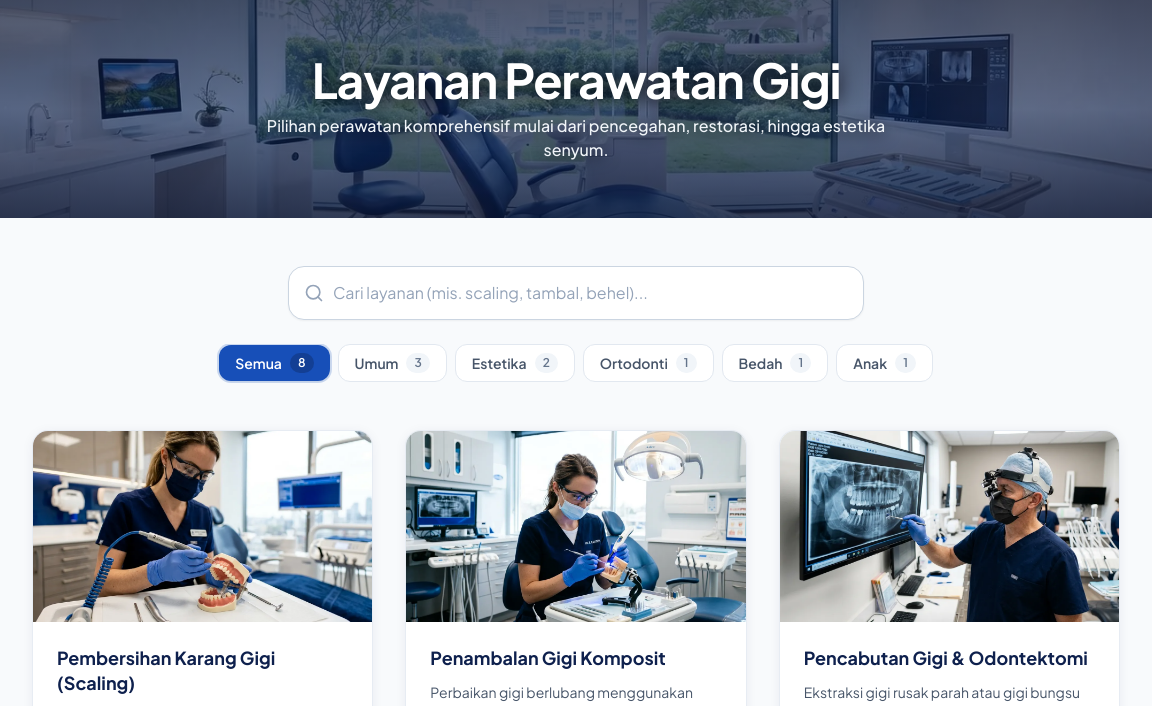
Test: Services.vue (FR-4.1, FR-4.4) › filters services based on category chip
This screenshot has width=1152, height=706.
Click the button "Ortodonti 1" at (648, 363), box [583, 344, 714, 382]
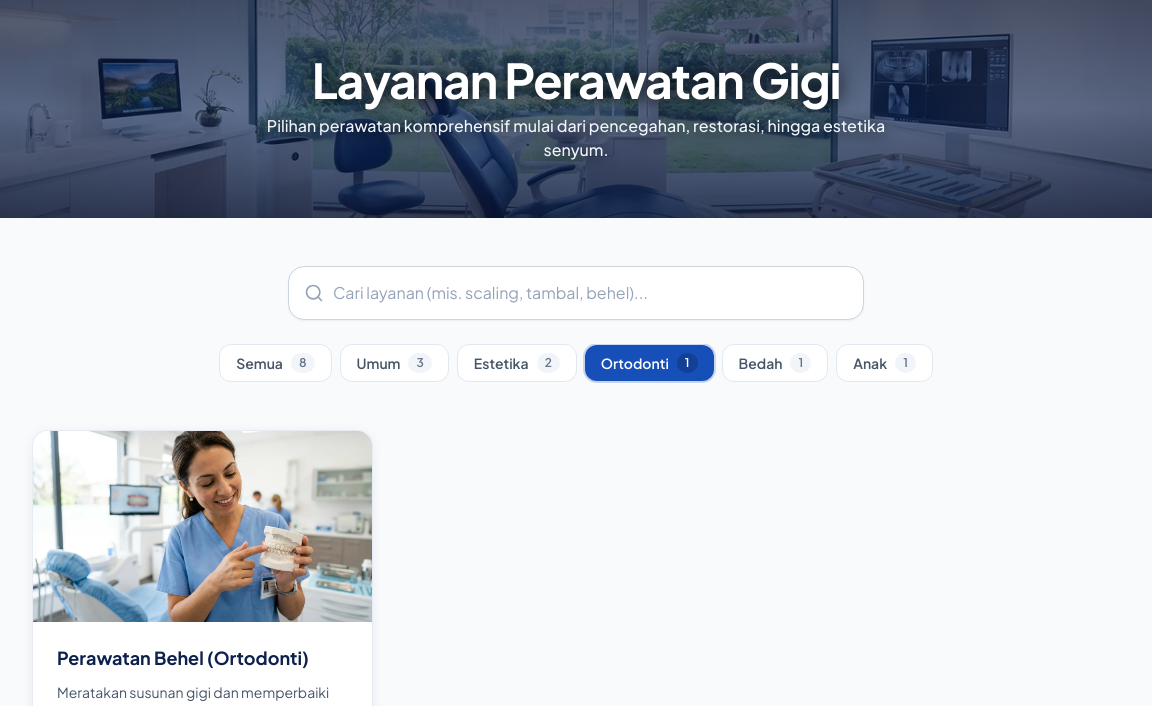
Expected: the text "Perawatan Behel (Ortodonti)" is shown, [57, 646, 309, 669]
Now the text "Pembersihan Karang Gigi (Scaling)" is gone
